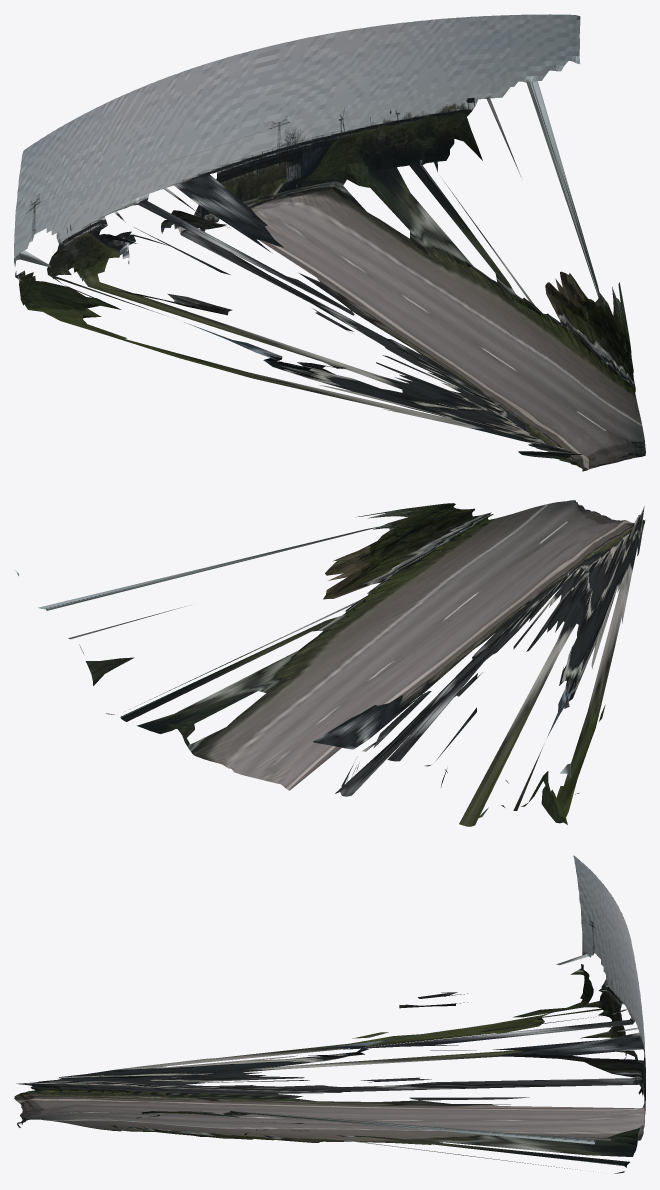
3 views of the same model, one above another, from view 1: azimuth 30°, elevation 25°; view 2: azimuth 150°, elevation 25°; view 3: azimuth 270°, elevation 25° (orthographic). The views are drawn at different scales.
Parts seen in each view (by area): view 1: defaultobject; view 2: defaultobject; view 3: defaultobject.
Part boxes in pixels (<box>): defaultobject: <box>14,14,645,471</box>; defaultobject: <box>15,500,645,826</box>; defaultobject: <box>14,855,645,1173</box>.
Size of the model in its own units: 41.02 by 12.7 by 44.67.
1 material, 1 textured.
